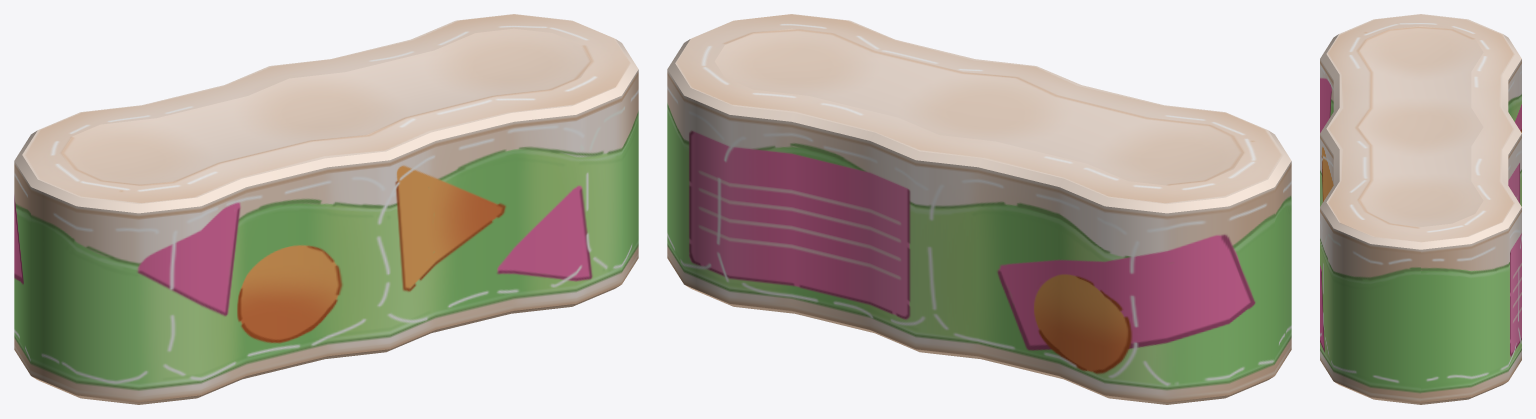
File: bathroom_toiletpaper_package_small.fbx
The picture shows the model from 3 angles, left to right: view 1: azimuth 30°, elevation 25°; view 2: azimuth 150°, elevation 25°; view 3: azimuth 270°, elevation 25°; orthographic projection. The views are drawn at different scales.
Visible parts, largest first — view 1: bathroom_toiletpaper_package_small; view 2: bathroom_toiletpaper_package_small; view 3: bathroom_toiletpaper_package_small.
Part boxes in pixels (x1=…): bathroom_toiletpaper_package_small: x1=14, y1=14, x2=638, y2=404; bathroom_toiletpaper_package_small: x1=667, y1=14, x2=1291, y2=404; bathroom_toiletpaper_package_small: x1=1320, y1=14, x2=1521, y2=404.
Size of the model in its own units: 51.75 by 16.97 by 18.9.
